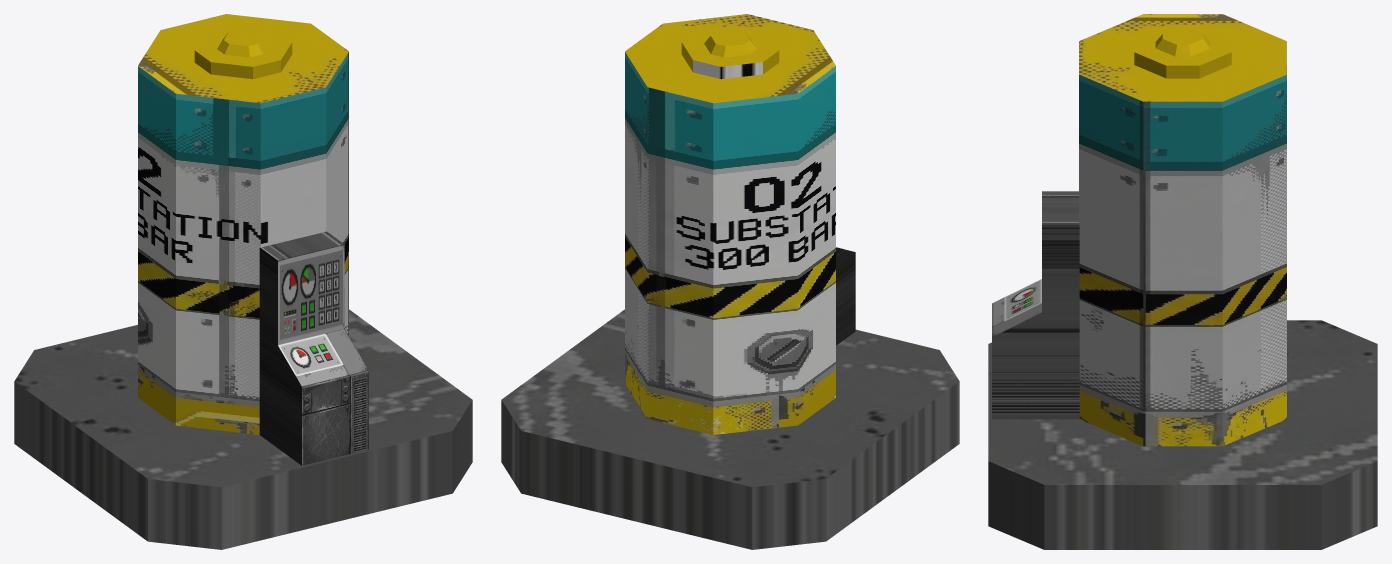
The model's file is Auxiliary_O2_Substation.fbx.
3 views of the same model, side by side, from view 1: azimuth 30°, elevation 25°; view 2: azimuth 150°, elevation 25°; view 3: azimuth 270°, elevation 25° (orthographic). The views are drawn at different scales.
Parts seen in each view (by area): view 1: Tank, Base, Console; view 2: Tank, Base, Console; view 3: Tank, Base, Console.
Part boxes in pixels (x1,y1,x2,y2): Tank: (138, 14, 348, 434); Base: (14, 309, 472, 549); Console: (259, 231, 368, 465); Tank: (625, 14, 835, 434); Base: (501, 309, 959, 549); Console: (836, 247, 855, 345); Tank: (1079, 14, 1286, 446); Base: (988, 320, 1377, 549); Console: (992, 191, 1079, 419).
Size of the model in its own units: 3 by 3.67 by 3.
